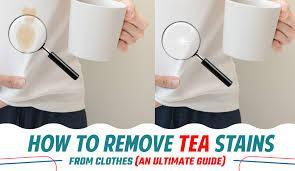coffee: (16, 8, 38, 48)
